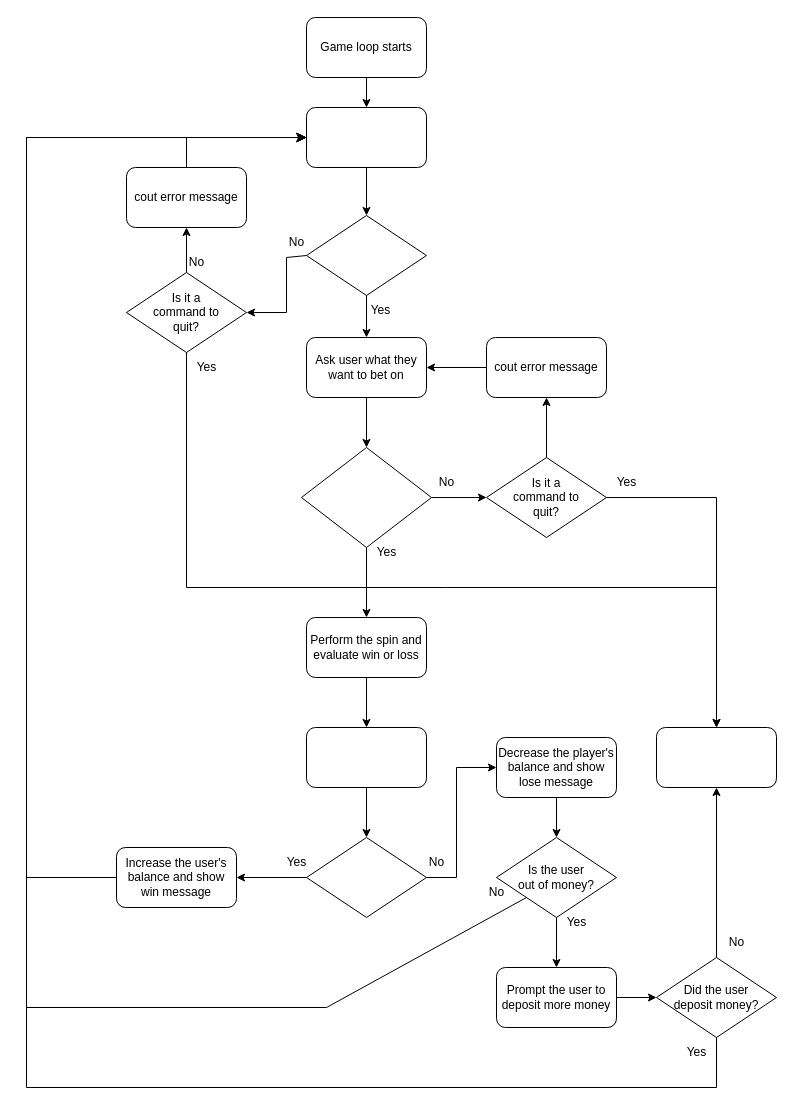
This 794x1113 diagram has some shape labels left out. The shapes that lost their labels are listed below. From the top down, each one's centre as x and y in pixels, then its label:
At point 366,137: "Prompt user to set their bet".
At point 366,255: "Is the bet valid?".
At point 366,497: "Is it a valid colour or number?".
At point 366,757: "Update total losses/wins variables".
At point 716,757: "GAME OVER Terminate game loop and withdraw balance".
At point 366,877: "Was it a winning bet?".
